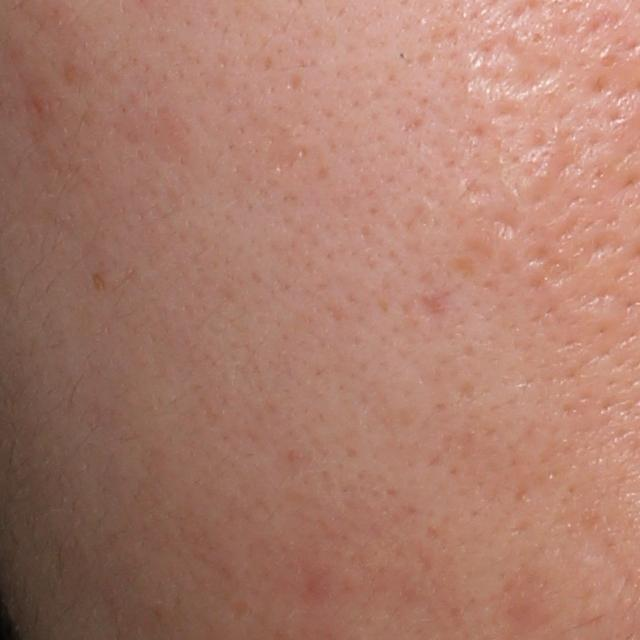atrophic_scar: (464, 27, 566, 110), (474, 195, 524, 244), (523, 238, 574, 284), (265, 127, 309, 175), (414, 294, 454, 326)
